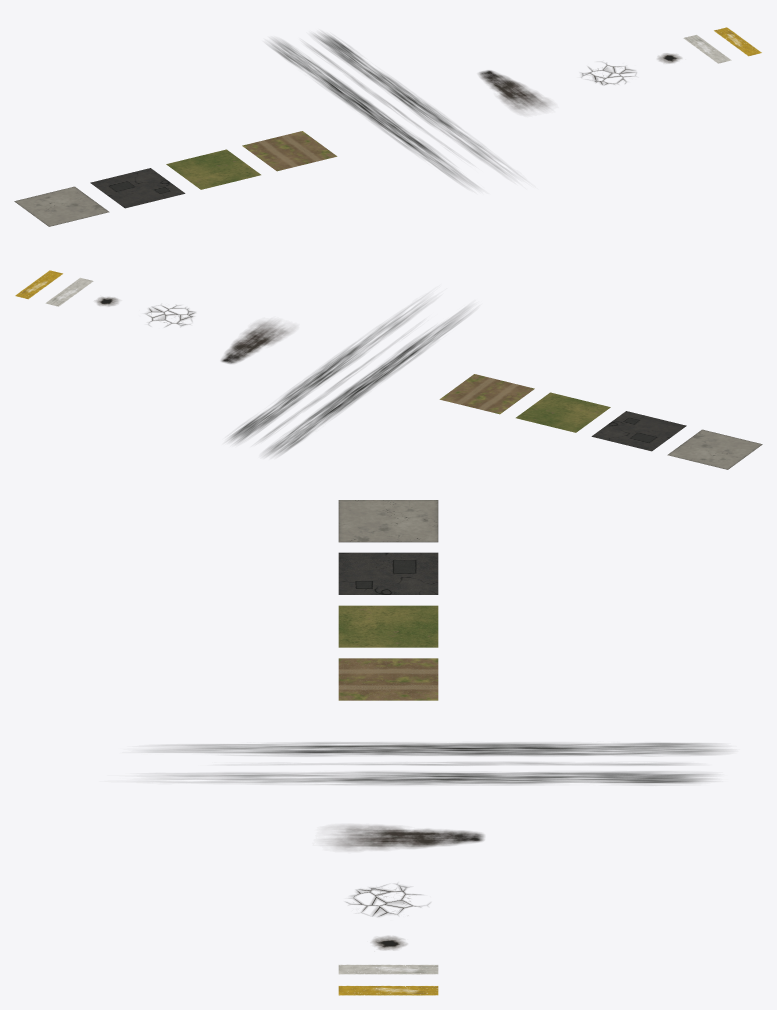
The model's file is base_ground.glb.
The picture shows the model from 3 angles, top to bottom: view 1: azimuth 30°, elevation 25°; view 2: azimuth 150°, elevation 25°; view 3: azimuth 270°, elevation 25°; orthographic projection. The views are drawn at different scales.
Parts seen in each view (by area): view 1: decal_tyre_rubber, ground_concrete, ground_asphalt, ground_dirt, ground_grass, decal_scorch, decal_paint_white, decal_paint_yellow; view 2: decal_tyre_rubber, ground_concrete, ground_asphalt, ground_dirt, ground_grass, decal_scorch, decal_paint_white, decal_paint_yellow; view 3: decal_tyre_rubber, ground_dirt, ground_concrete, ground_asphalt, ground_grass, decal_scorch, decal_paint_white, decal_paint_yellow.
Boxes of the visible parts, bbox=[...] form: decal_tyre_rubber: bbox=[270, 34, 507, 185]; ground_concrete: bbox=[14, 186, 109, 226]; ground_asphalt: bbox=[90, 168, 185, 208]; ground_dirt: bbox=[242, 131, 337, 171]; ground_grass: bbox=[166, 149, 260, 189]; decal_scorch: bbox=[479, 70, 549, 110]; decal_paint_white: bbox=[683, 35, 731, 63]; decal_paint_yellow: bbox=[714, 27, 761, 56]; decal_tyre_rubber: bbox=[229, 303, 468, 455]; ground_concrete: bbox=[667, 429, 762, 469]; ground_asphalt: bbox=[591, 411, 686, 451]; ground_dirt: bbox=[439, 374, 534, 414]; ground_grass: bbox=[516, 392, 610, 432]; decal_scorch: bbox=[221, 321, 291, 363]; decal_paint_white: bbox=[45, 277, 93, 306]; decal_paint_yellow: bbox=[15, 270, 62, 299]; decal_tyre_rubber: bbox=[155, 742, 723, 784]; ground_dirt: bbox=[338, 658, 438, 700]; ground_concrete: bbox=[338, 500, 438, 542]; ground_asphalt: bbox=[338, 552, 438, 594]; ground_grass: bbox=[338, 605, 438, 647]; decal_scorch: bbox=[328, 825, 483, 849]; decal_paint_white: bbox=[338, 964, 438, 974]; decal_paint_yellow: bbox=[338, 985, 438, 995].
Bounding box in the file's own units: 47 × 0 × 30.
10 materials, 10 textured.
